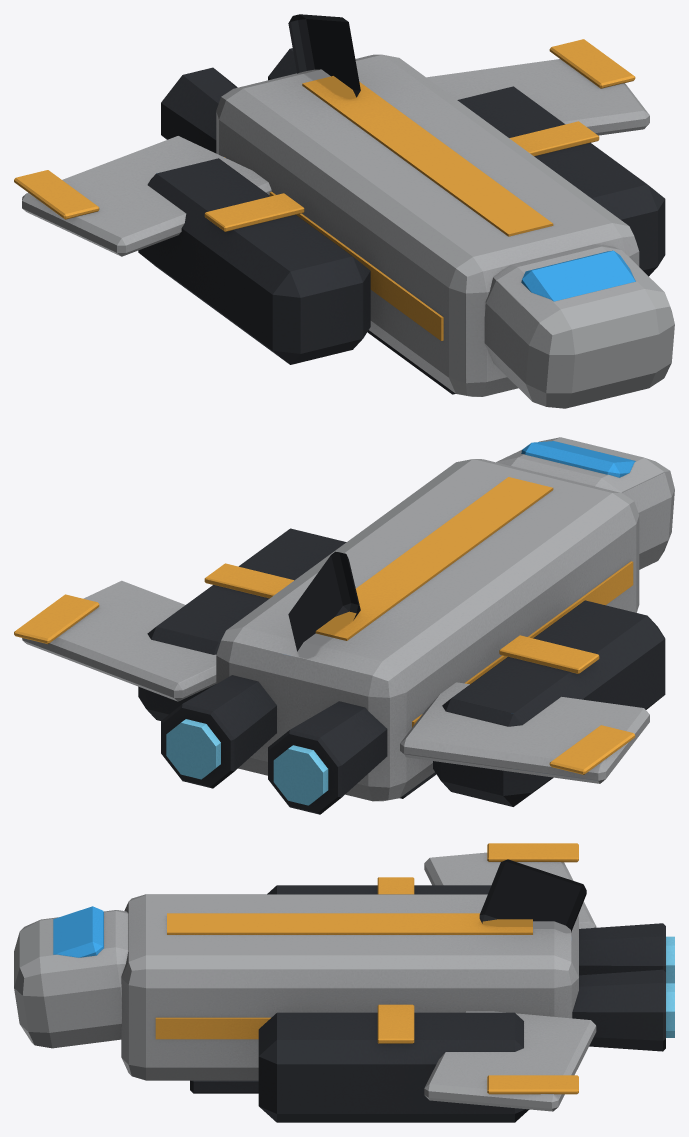
File: SM_Shuttle.fbx
3 renders of one model, top to bottom at view 1: azimuth 30°, elevation 25°; view 2: azimuth 150°, elevation 25°; view 3: azimuth 270°, elevation 25°, orthographic. The views are drawn at different scales.
Parts seen in each view (by area): view 1: SMN_Shuttle; view 2: SMN_Shuttle; view 3: SMN_Shuttle.
Boxes of the visible parts, x1,y1,x2,y2 form: SMN_Shuttle: (14, 14, 674, 408); SMN_Shuttle: (14, 437, 674, 814); SMN_Shuttle: (14, 843, 674, 1122).
Bounding box in the file's own units: 1.31 × 0.4953 × 1.44.
